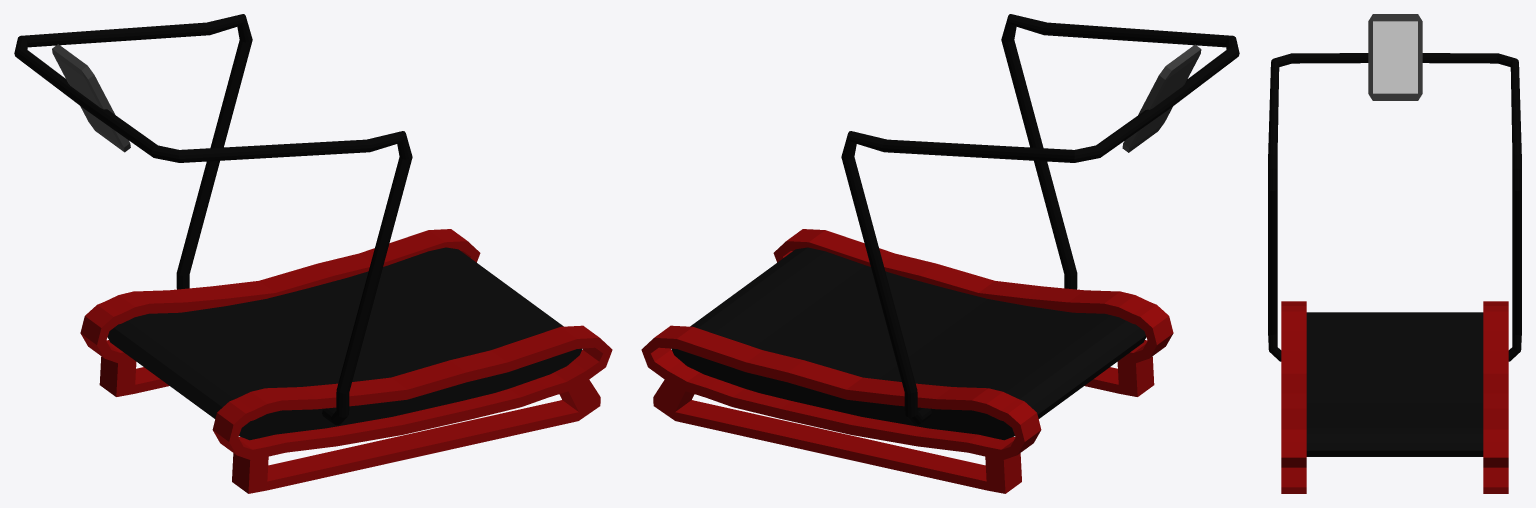
Rendered from RunnerTreadmill.fbx.
3 views of the same model, side by side, from view 1: azimuth 30°, elevation 25°; view 2: azimuth 150°, elevation 25°; view 3: azimuth 270°, elevation 25° (orthographic). The views are drawn at different scales.
Parts seen in each view (by area): view 1: RunnerTreadmill; view 2: RunnerTreadmill; view 3: RunnerTreadmill.
Boxes of the visible parts, x1,y1,x2,y2 form: RunnerTreadmill: [14, 14, 612, 493]; RunnerTreadmill: [641, 14, 1239, 493]; RunnerTreadmill: [1268, 14, 1521, 493].
Size of the model in its own units: 164 by 139 by 100.
